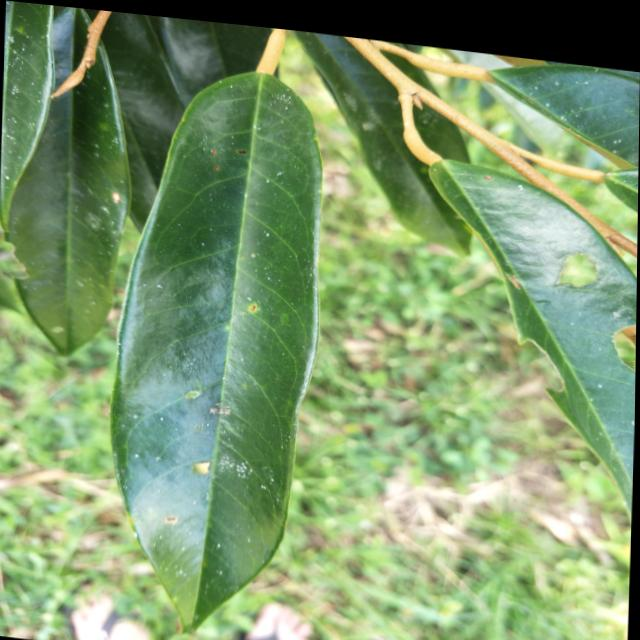Leaf Spot: (187, 173, 309, 479)
